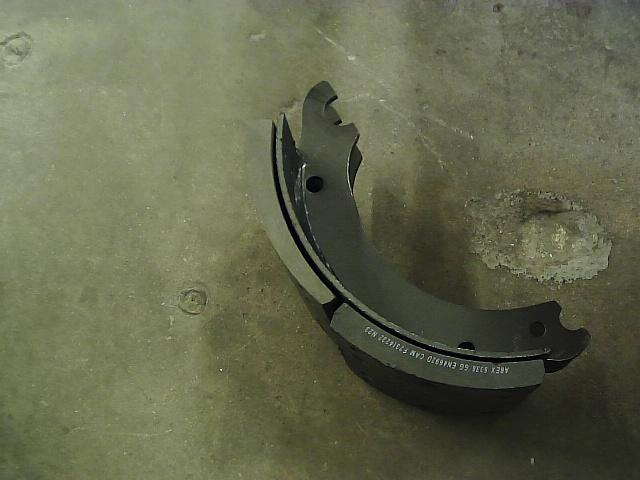brake-shoes: (243, 78, 591, 426)
